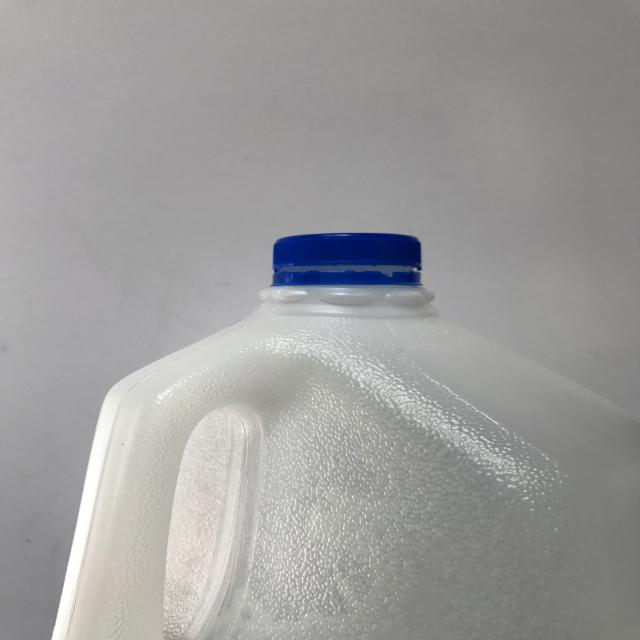plastic: (50, 232, 639, 638)
